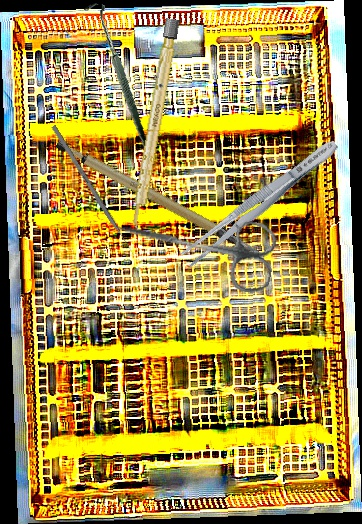Dressing Forceps: (177, 133, 344, 271)
Hook Surgical: (64, 1, 170, 150)
Iris Scissors: (108, 196, 281, 296)
Pusher: (51, 124, 137, 259)
Scalpel Handle: (52, 114, 263, 288), (129, 17, 180, 231)
